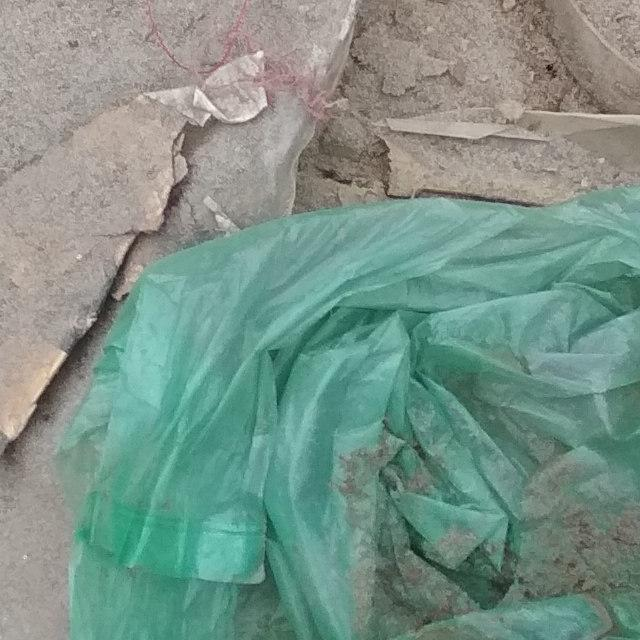plastic: (0, 0, 571, 640), (0, 106, 640, 640)
